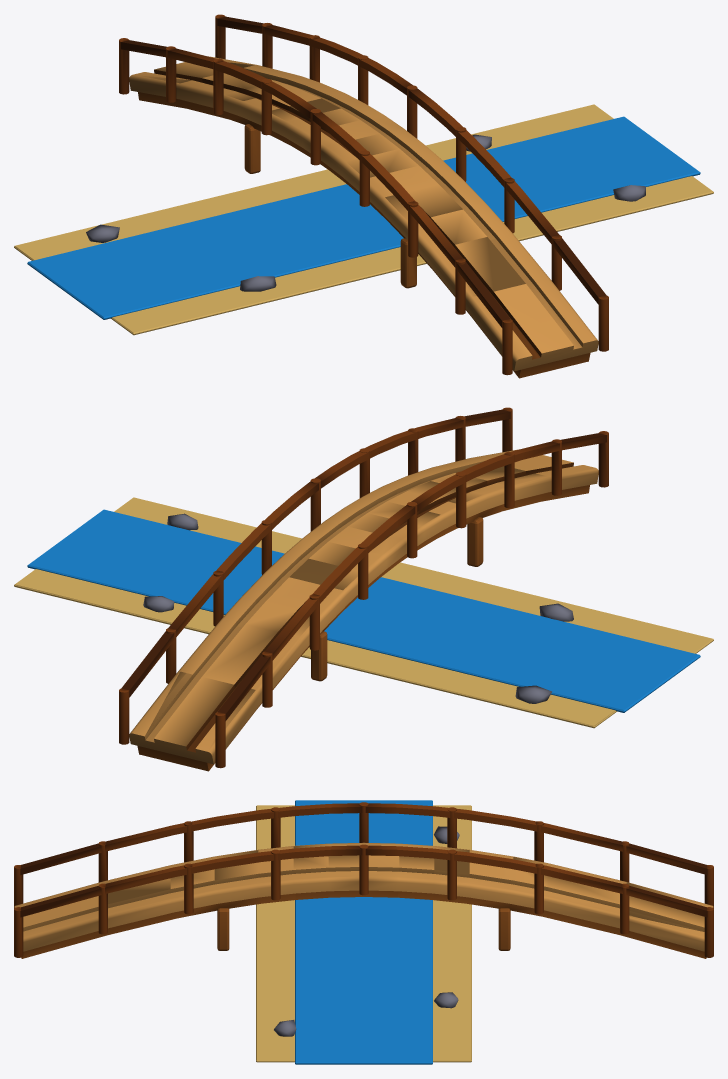
Rendered from WoodenBridge.fbx.
3 views of the same model, one above another, from view 1: azimuth 30°, elevation 25°; view 2: azimuth 150°, elevation 25°; view 3: azimuth 270°, elevation 25° (orthographic). The views are drawn at different scales.
Parts seen in each view (by area): view 1: WoodenBridge; view 2: WoodenBridge; view 3: WoodenBridge.
Part boxes in pixels (<box>): WoodenBridge: <box>14,14,713,378</box>; WoodenBridge: <box>14,407,713,771</box>; WoodenBridge: <box>14,800,713,1064</box>.
Size of the model in its own units: 7.2 by 1.51 by 8.11.
